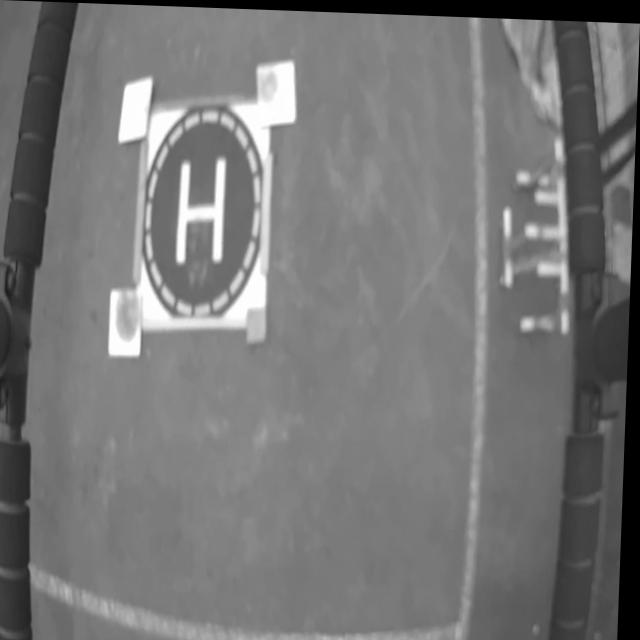Helipad: (178, 153, 228, 263)
